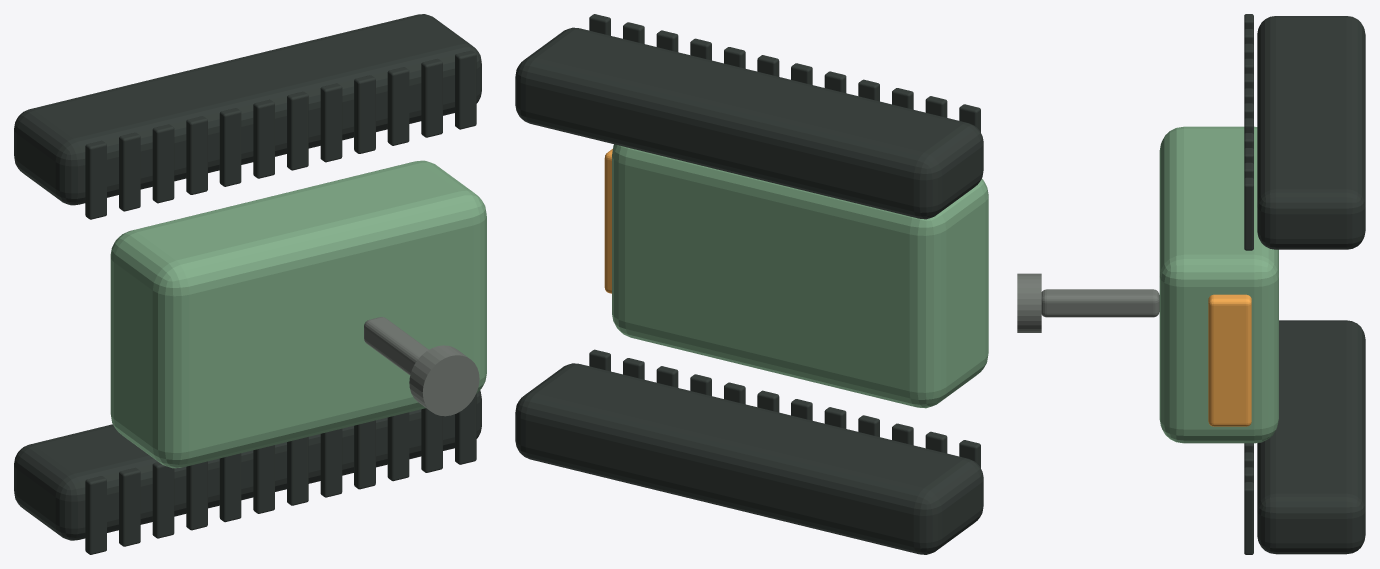
File: tracked_robot_shell.glb
3 renders of one model, left to right at view 1: azimuth 30°, elevation 25°; view 2: azimuth 150°, elevation 25°; view 3: azimuth 270°, elevation 25°, orthographic. The views are drawn at different scales.
Parts seen in each view (by area): view 1: rounded_body_shell, left_rubber_track_visual, right_rubber_track_visual, lidar_head, sensor_mast, left_tread_2, left_tread_7, left_tread_4, left_tread_9, left_tread_3, left_tread_5, left_tread_8 (+17 smaller); view 2: rounded_body_shell, right_rubber_track_visual, left_rubber_track_visual, front_tool_panel; view 3: rounded_body_shell, left_rubber_track_visual, right_rubber_track_visual, front_tool_panel, sensor_mast, lidar_head, left_tread_11, right_tread_11.
Part boxes in pixels (left/top/right/bottom): rounded_body_shell: left=110, top=160, right=486, bottom=468; left_rubber_track_visual: left=14, top=14, right=481, bottom=205; right_rubber_track_visual: left=14, top=390, right=481, bottom=540; lidar_head: left=409, top=345, right=479, bottom=416; sensor_mast: left=364, top=317, right=428, bottom=374; left_tread_2: left=152, top=124, right=174, bottom=203; left_tread_7: left=320, top=83, right=342, bottom=162; left_tread_4: left=219, top=108, right=241, bottom=186; left_tread_9: left=387, top=67, right=409, bottom=145; left_tread_3: left=186, top=116, right=207, bottom=194; left_tread_5: left=253, top=99, right=274, bottom=178; left_tread_8: left=354, top=75, right=375, bottom=153; rounded_body_shell: left=612, top=144, right=988, bottom=408; right_rubber_track_visual: left=515, top=363, right=983, bottom=554; left_rubber_track_visual: left=515, top=27, right=983, bottom=219; front_tool_panel: left=604, top=149, right=612, bottom=293; rounded_body_shell: left=1159, top=126, right=1278, bottom=443; left_rubber_track_visual: left=1257, top=16, right=1365, bottom=249; right_rubber_track_visual: left=1257, top=320, right=1365, bottom=554; front_tool_panel: left=1208, top=294, right=1251, bottom=426; sensor_mast: left=1041, top=289, right=1159, bottom=317; lidar_head: left=1017, top=273, right=1041, bottom=332; left_tread_11: left=1244, top=177, right=1253, bottom=250; right_tread_11: left=1244, top=482, right=1253, bottom=554.
Bounding box in the file's own units: 0.82 × 0.755 × 0.6425.
